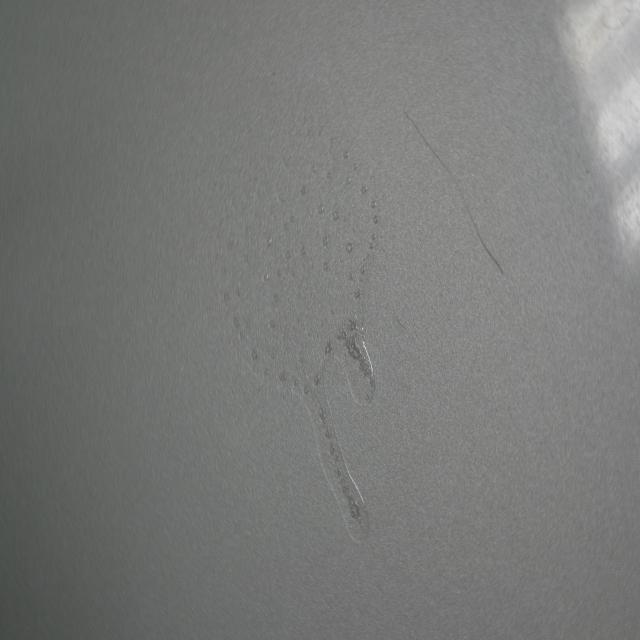runs: (199, 115, 375, 541)
scratch: (403, 102, 508, 282)
